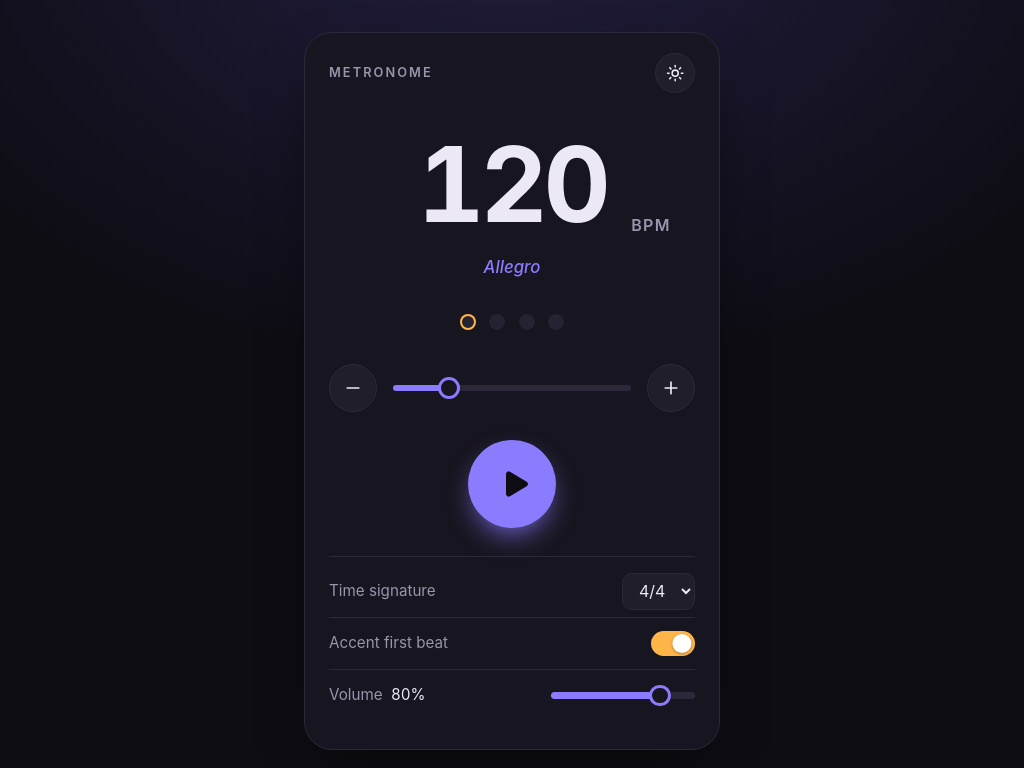
App › steps the typed tempo with the arrow keys
This screenshot has width=1024, height=768.
Click the field named "tempo in beats per minute": (512, 184) [393,121,631,247]
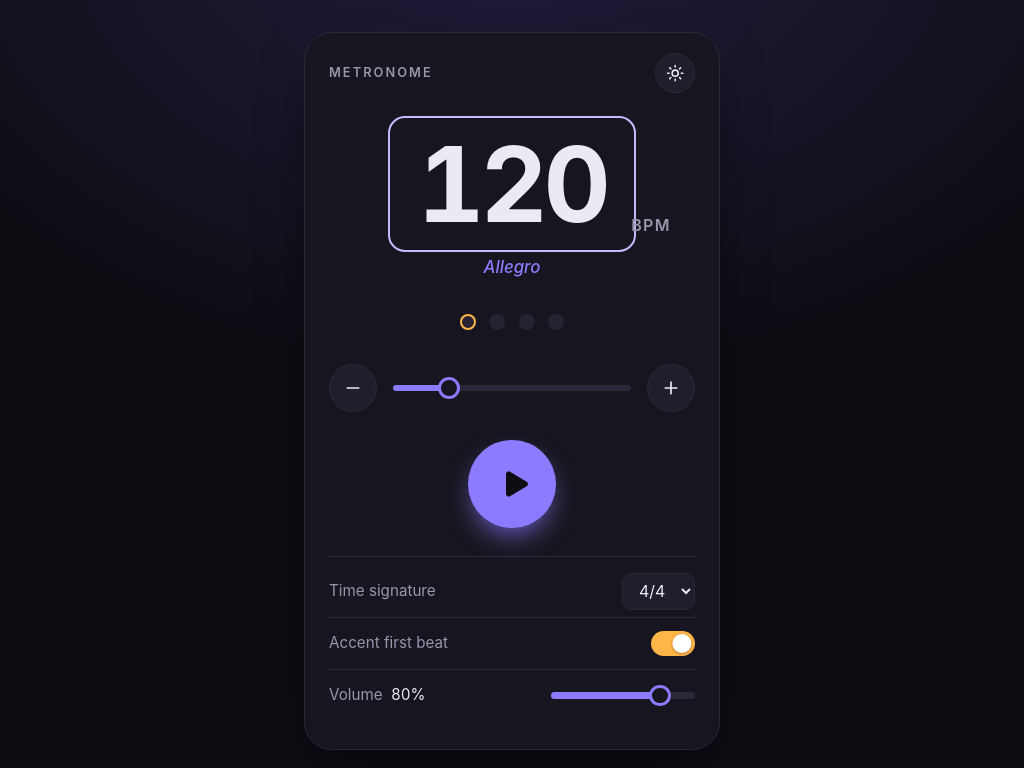
Press Arrowup
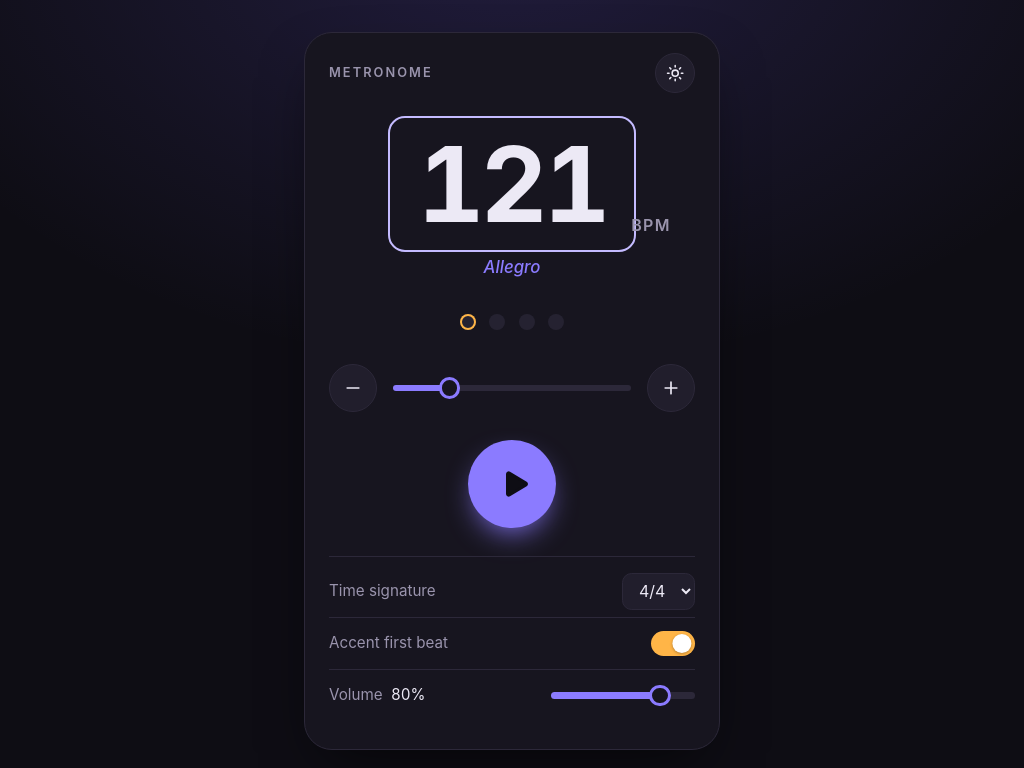
Check: the field named "tempo in beats per minute" holds "121", box [393,121,631,247]
Type keys "{Shift>}{ArrowDown}{/Shift}"
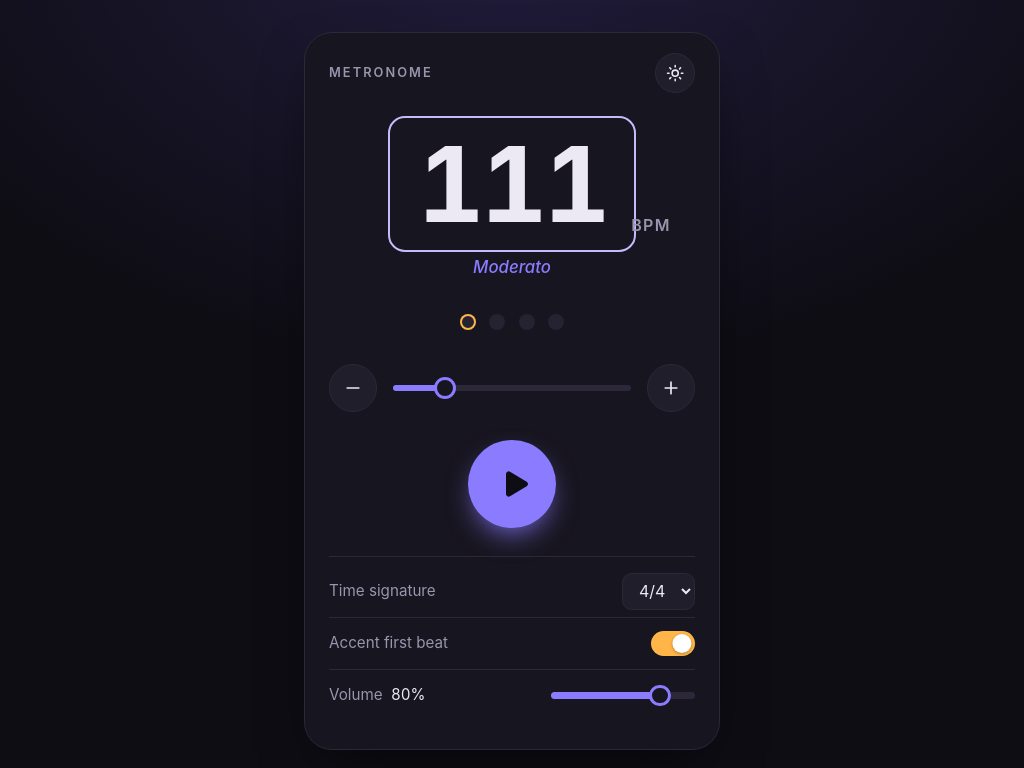
Check: the field named "tempo in beats per minute" holds "111", box [393,121,631,247]
